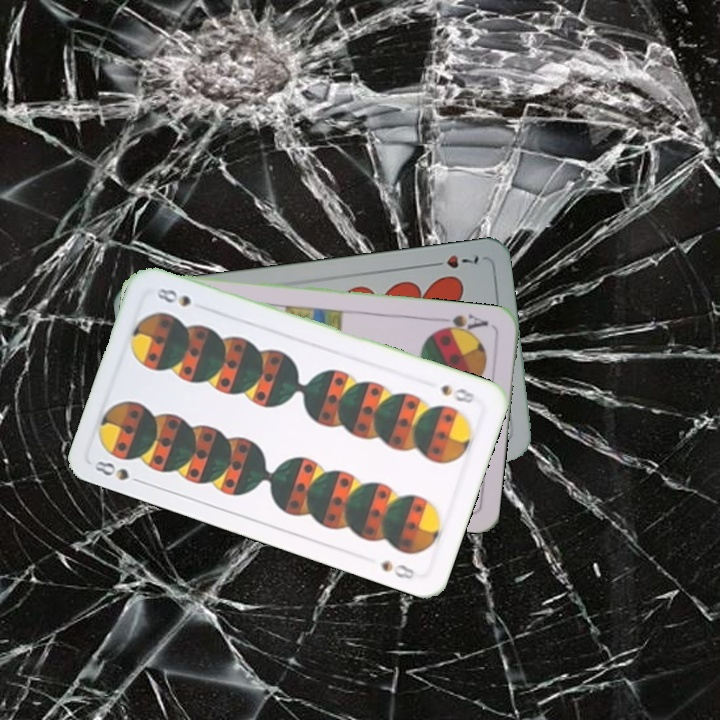H7: (425, 251, 481, 271)
S8: (90, 456, 147, 487), (437, 380, 478, 406)
SA: (433, 309, 491, 337)
